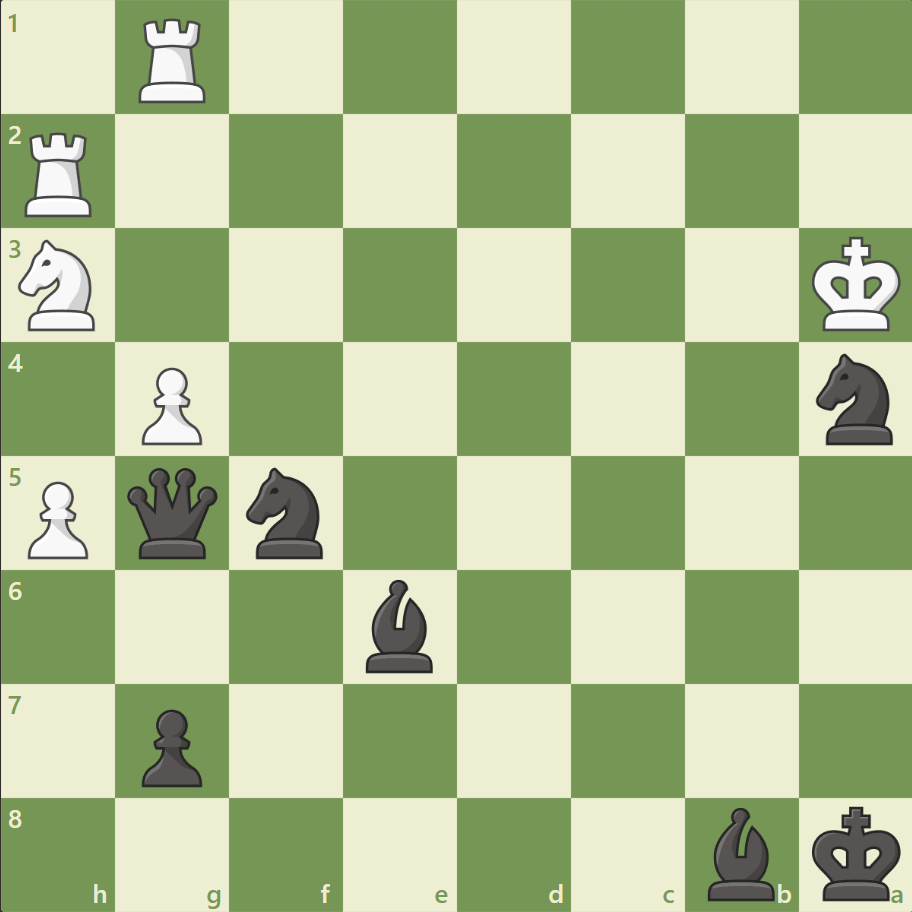K: (806, 231, 906, 339)
N: (11, 234, 108, 337)
P: (20, 473, 95, 564), (133, 359, 208, 450)
R: (19, 125, 102, 222), (133, 12, 215, 109)
b: (698, 801, 782, 904), (358, 574, 442, 676)
k: (806, 798, 906, 906)
n: (238, 461, 335, 564), (806, 348, 903, 450)
p: (133, 700, 208, 791)
q: (124, 463, 223, 562)
